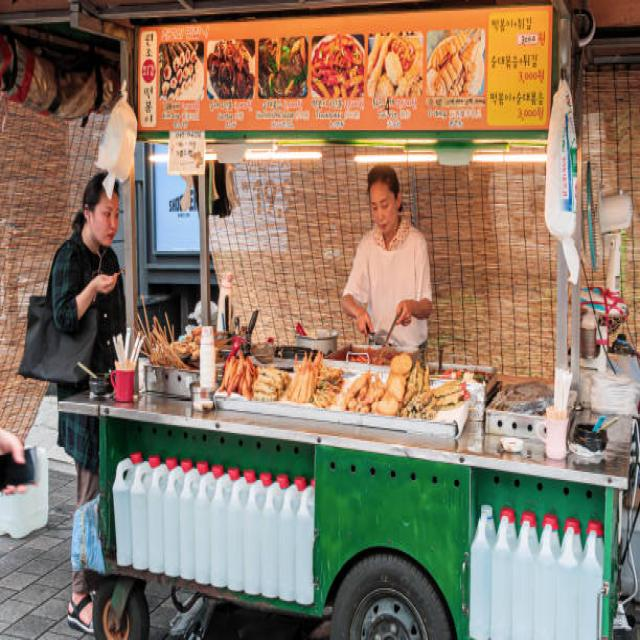Emperan: (58, 0, 640, 625)
